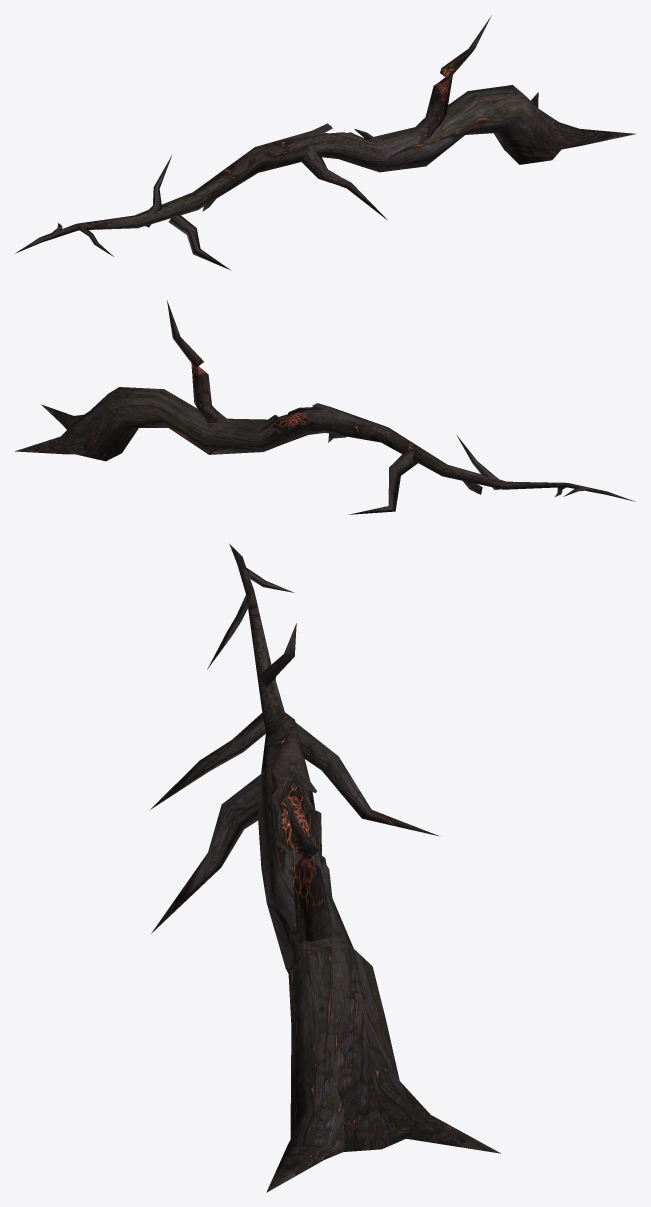
Rendered from yw_huanghunyaosai_kushu02.FBX.
The picture shows the model from 3 angles, top to bottom: view 1: azimuth 30°, elevation 25°; view 2: azimuth 150°, elevation 25°; view 3: azimuth 270°, elevation 25°; orthographic projection. The views are drawn at different scales.
Visible parts, largest first — view 1: yw_huanghunyaosai_kushu02; view 2: yw_huanghunyaosai_kushu02; view 3: yw_huanghunyaosai_kushu02.
Boxes of the visible parts, x1=… form: yw_huanghunyaosai_kushu02: x1=15, y1=15, x2=635, y2=270; yw_huanghunyaosai_kushu02: x1=15, y1=300, x2=634, y2=514; yw_huanghunyaosai_kushu02: x1=150, y1=544, x2=500, y2=1192.
Bounding box in the file's own units: 1543 × 390 × 402.
